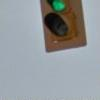traffic lights: (39, 0, 87, 55)
